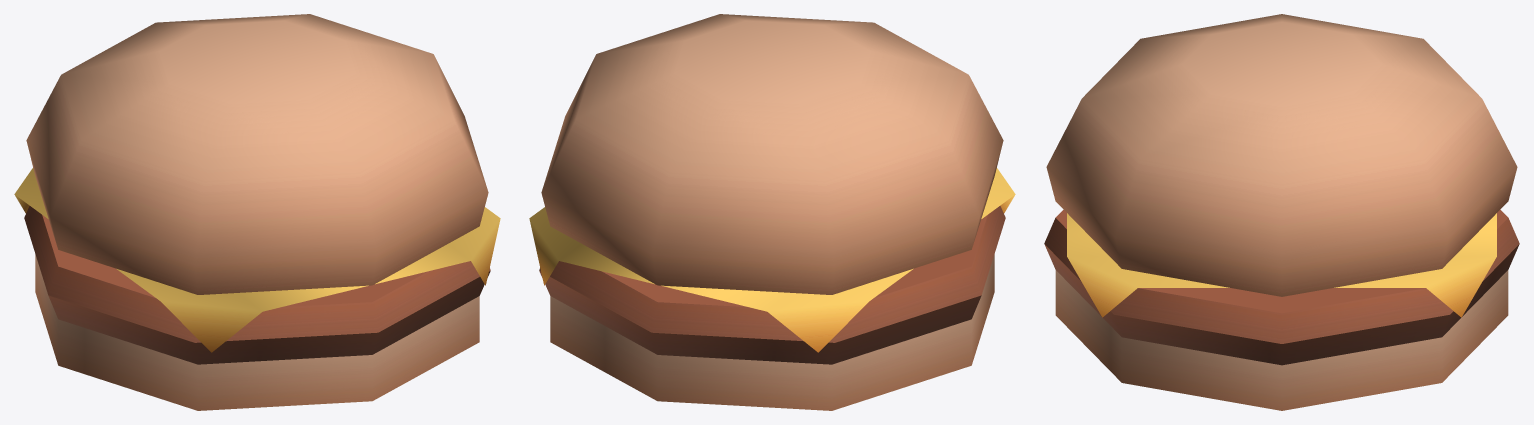
File: burger-cheddar.glb
The picture shows the model from 3 angles, left to right: view 1: azimuth 30°, elevation 25°; view 2: azimuth 150°, elevation 25°; view 3: azimuth 270°, elevation 25°; orthographic projection.
Visible parts, largest first — view 1: dish; view 2: dish; view 3: dish.
Part boxes in pixels (x1=…): dish: x1=14, y1=14, x2=500, y2=410; dish: x1=529, y1=14, x2=1015, y2=410; dish: x1=1044, y1=14, x2=1519, y2=410.
Bounding box in the file's own units: 0.1245 × 0.0725 × 0.1245.
1 material, 1 textured.
